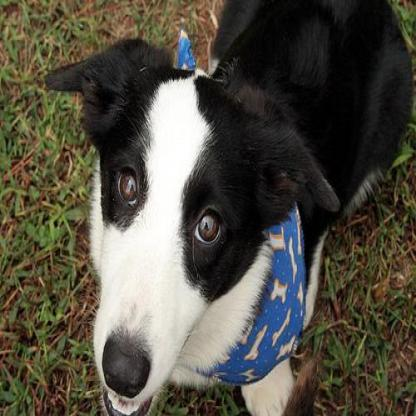Cardigan: (41, 0, 414, 414)
